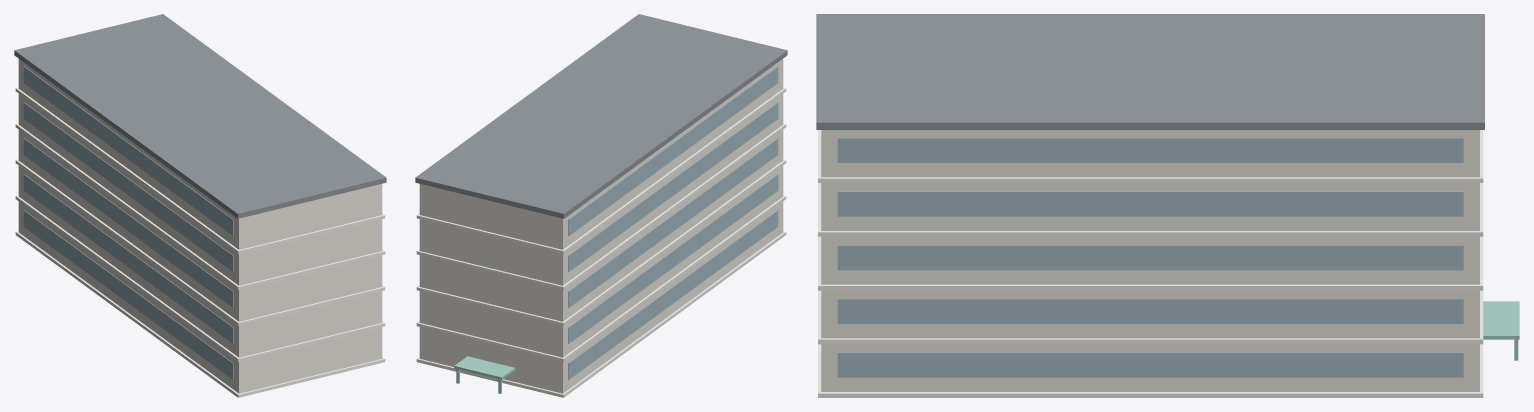
3 views of the same model, side by side, from view 1: azimuth 30°, elevation 25°; view 2: azimuth 150°, elevation 25°; view 3: azimuth 270°, elevation 25° (orthographic). The views are drawn at different scales.
Parts seen in each view (by area): view 1: wall, roof, glass, trim; view 2: wall, roof, glass, trim, accent; view 3: wall, glass, roof, trim, accent.
Boxes of the visible parts, x1,y1,x2,y2 form: wall: [18, 59, 382, 393]; roof: [14, 14, 386, 218]; glass: [23, 66, 233, 379]; trim: [15, 88, 385, 397]; wall: [419, 59, 783, 393]; roof: [415, 14, 787, 218]; glass: [568, 66, 778, 379]; trim: [416, 88, 786, 397]; accent: [454, 356, 515, 393]; wall: [821, 130, 1479, 391]; glass: [837, 137, 1463, 377]; roof: [816, 14, 1484, 129]; trim: [818, 130, 1483, 397]; accent: [1483, 301, 1519, 360].
Bounding box in the file's own units: 15.6 × 18.5 × 42.7.
